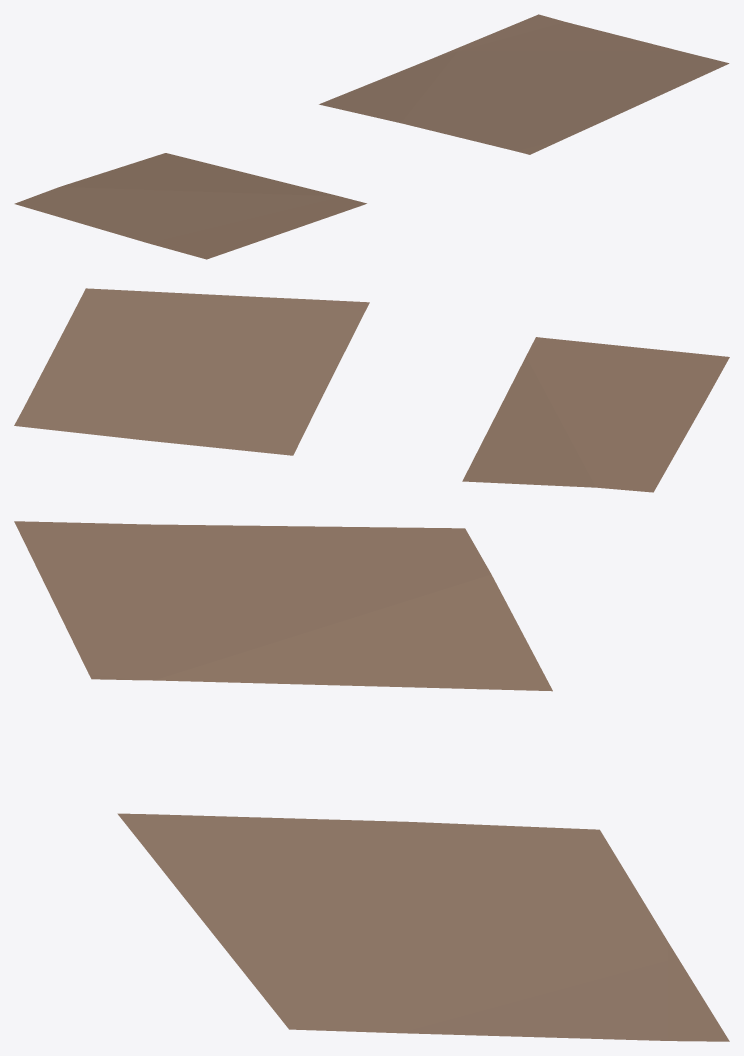
Rendered from farm_47_31_soil.glb.
The picture shows the model from 3 angles, top to bottom: view 1: azimuth 30°, elevation 25°; view 2: azimuth 150°, elevation 25°; view 3: azimuth 270°, elevation 25°; orthographic projection. The views are drawn at different scales.
Parts seen in each view (by area): view 1: geometry_0; view 2: geometry_0; view 3: geometry_0.
Boxes of the visible parts, x1=… form: geometry_0: x1=14, y1=14, x2=729, y2=259; geometry_0: x1=14, y1=288, x2=729, y2=492; geometry_0: x1=14, y1=521, x2=729, y2=1041.
Bounding box in the file's own units: 194 × 13.58 × 111.
